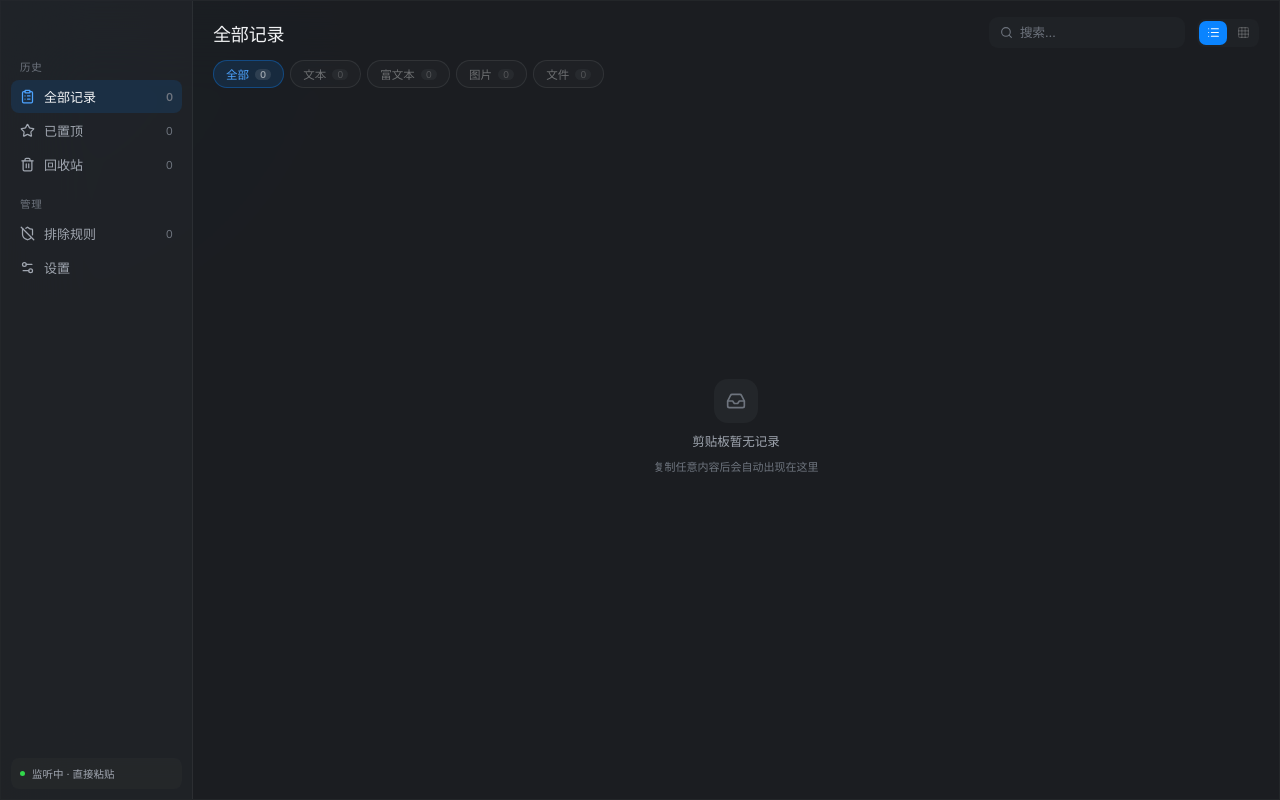
MainApp › switches to the trash section from the sidebar
What coordinates should you click on to do the following:
click the text "回收站"
I would click on:
 (64, 165)
Its box is [44, 157, 83, 173].
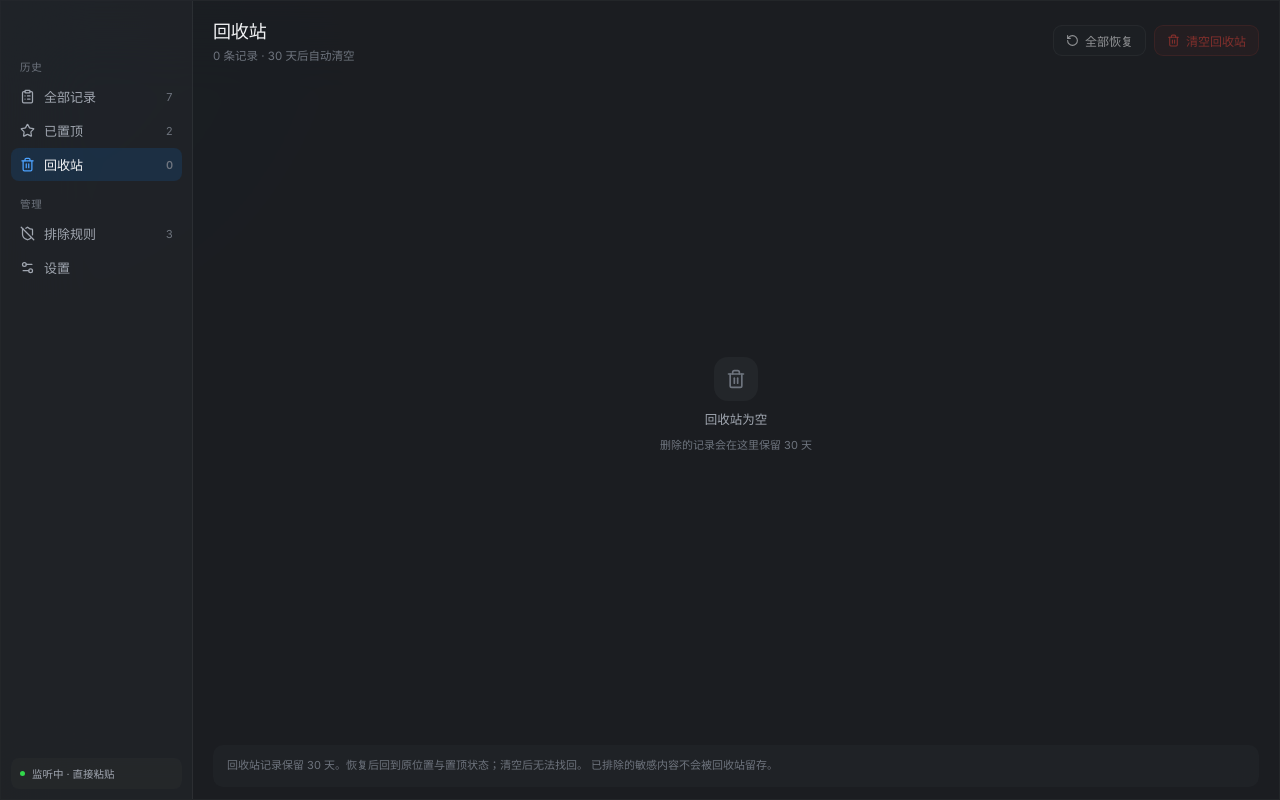
Check: the element with test id "main-trash-view" is shown
Check: the heading "回收站" is shown, box [213, 21, 266, 42]
